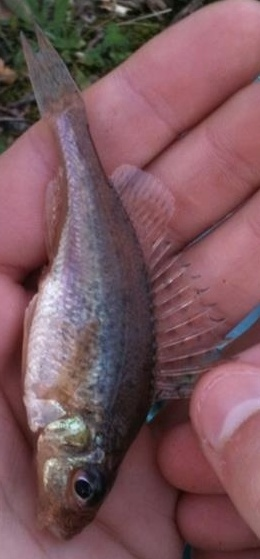Gymnocephalus cernuus: (20, 20, 240, 539)
